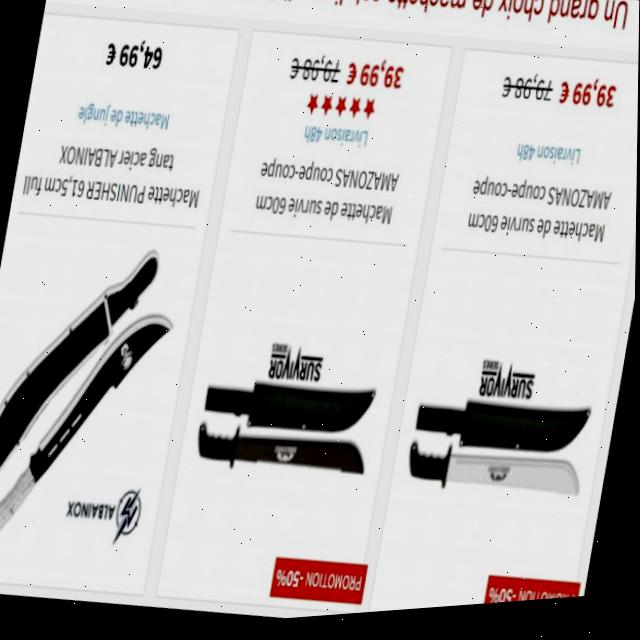long knife: (0, 197, 192, 556), (0, 252, 161, 472), (396, 370, 605, 539), (186, 351, 383, 505)
